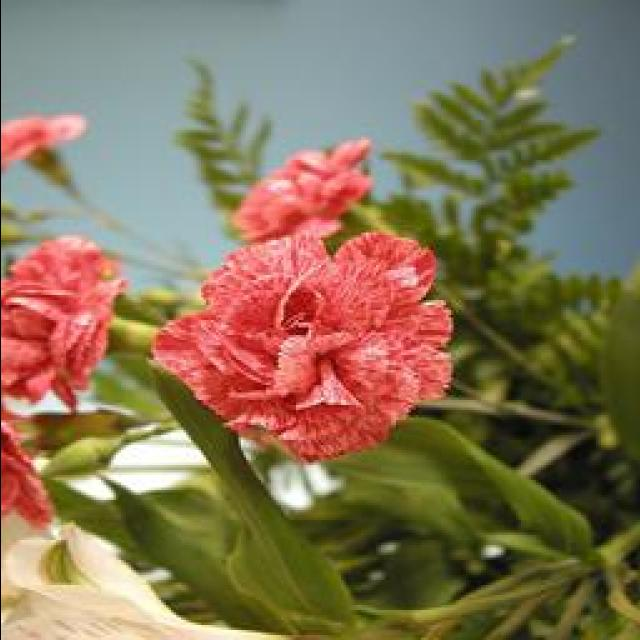carnation: (177, 202, 439, 502)
